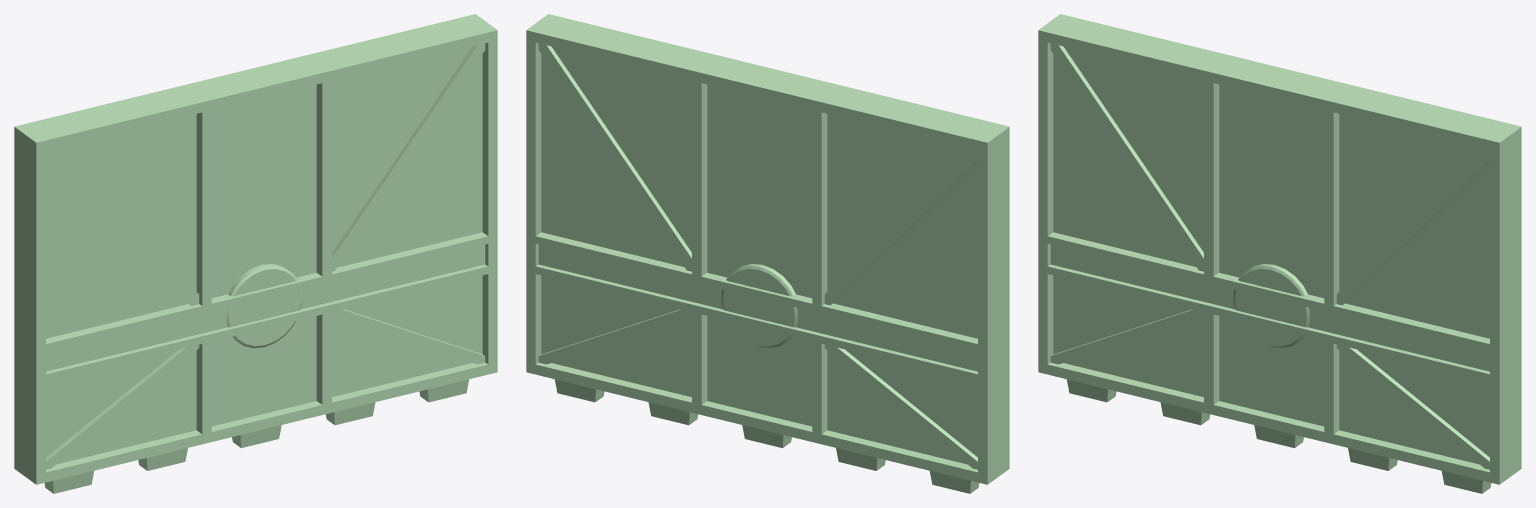
File: qe_blastdoorfbx.fbx
The picture shows the model from 3 angles, left to right: view 1: azimuth 30°, elevation 25°; view 2: azimuth 150°, elevation 25°; view 3: azimuth 330°, elevation 25°; orthographic projection.
Visible parts, largest first — view 1: qe_blastdoor_reference.smd; view 2: qe_blastdoor_reference.smd; view 3: qe_blastdoor_reference.smd.
Boxes of the visible parts, x1,y1,x2,y2 form: qe_blastdoor_reference.smd: (14, 14, 497, 493); qe_blastdoor_reference.smd: (526, 14, 1009, 493); qe_blastdoor_reference.smd: (1038, 14, 1521, 493).
Bounding box in the file's own units: 1029 × 772 × 85.79.
